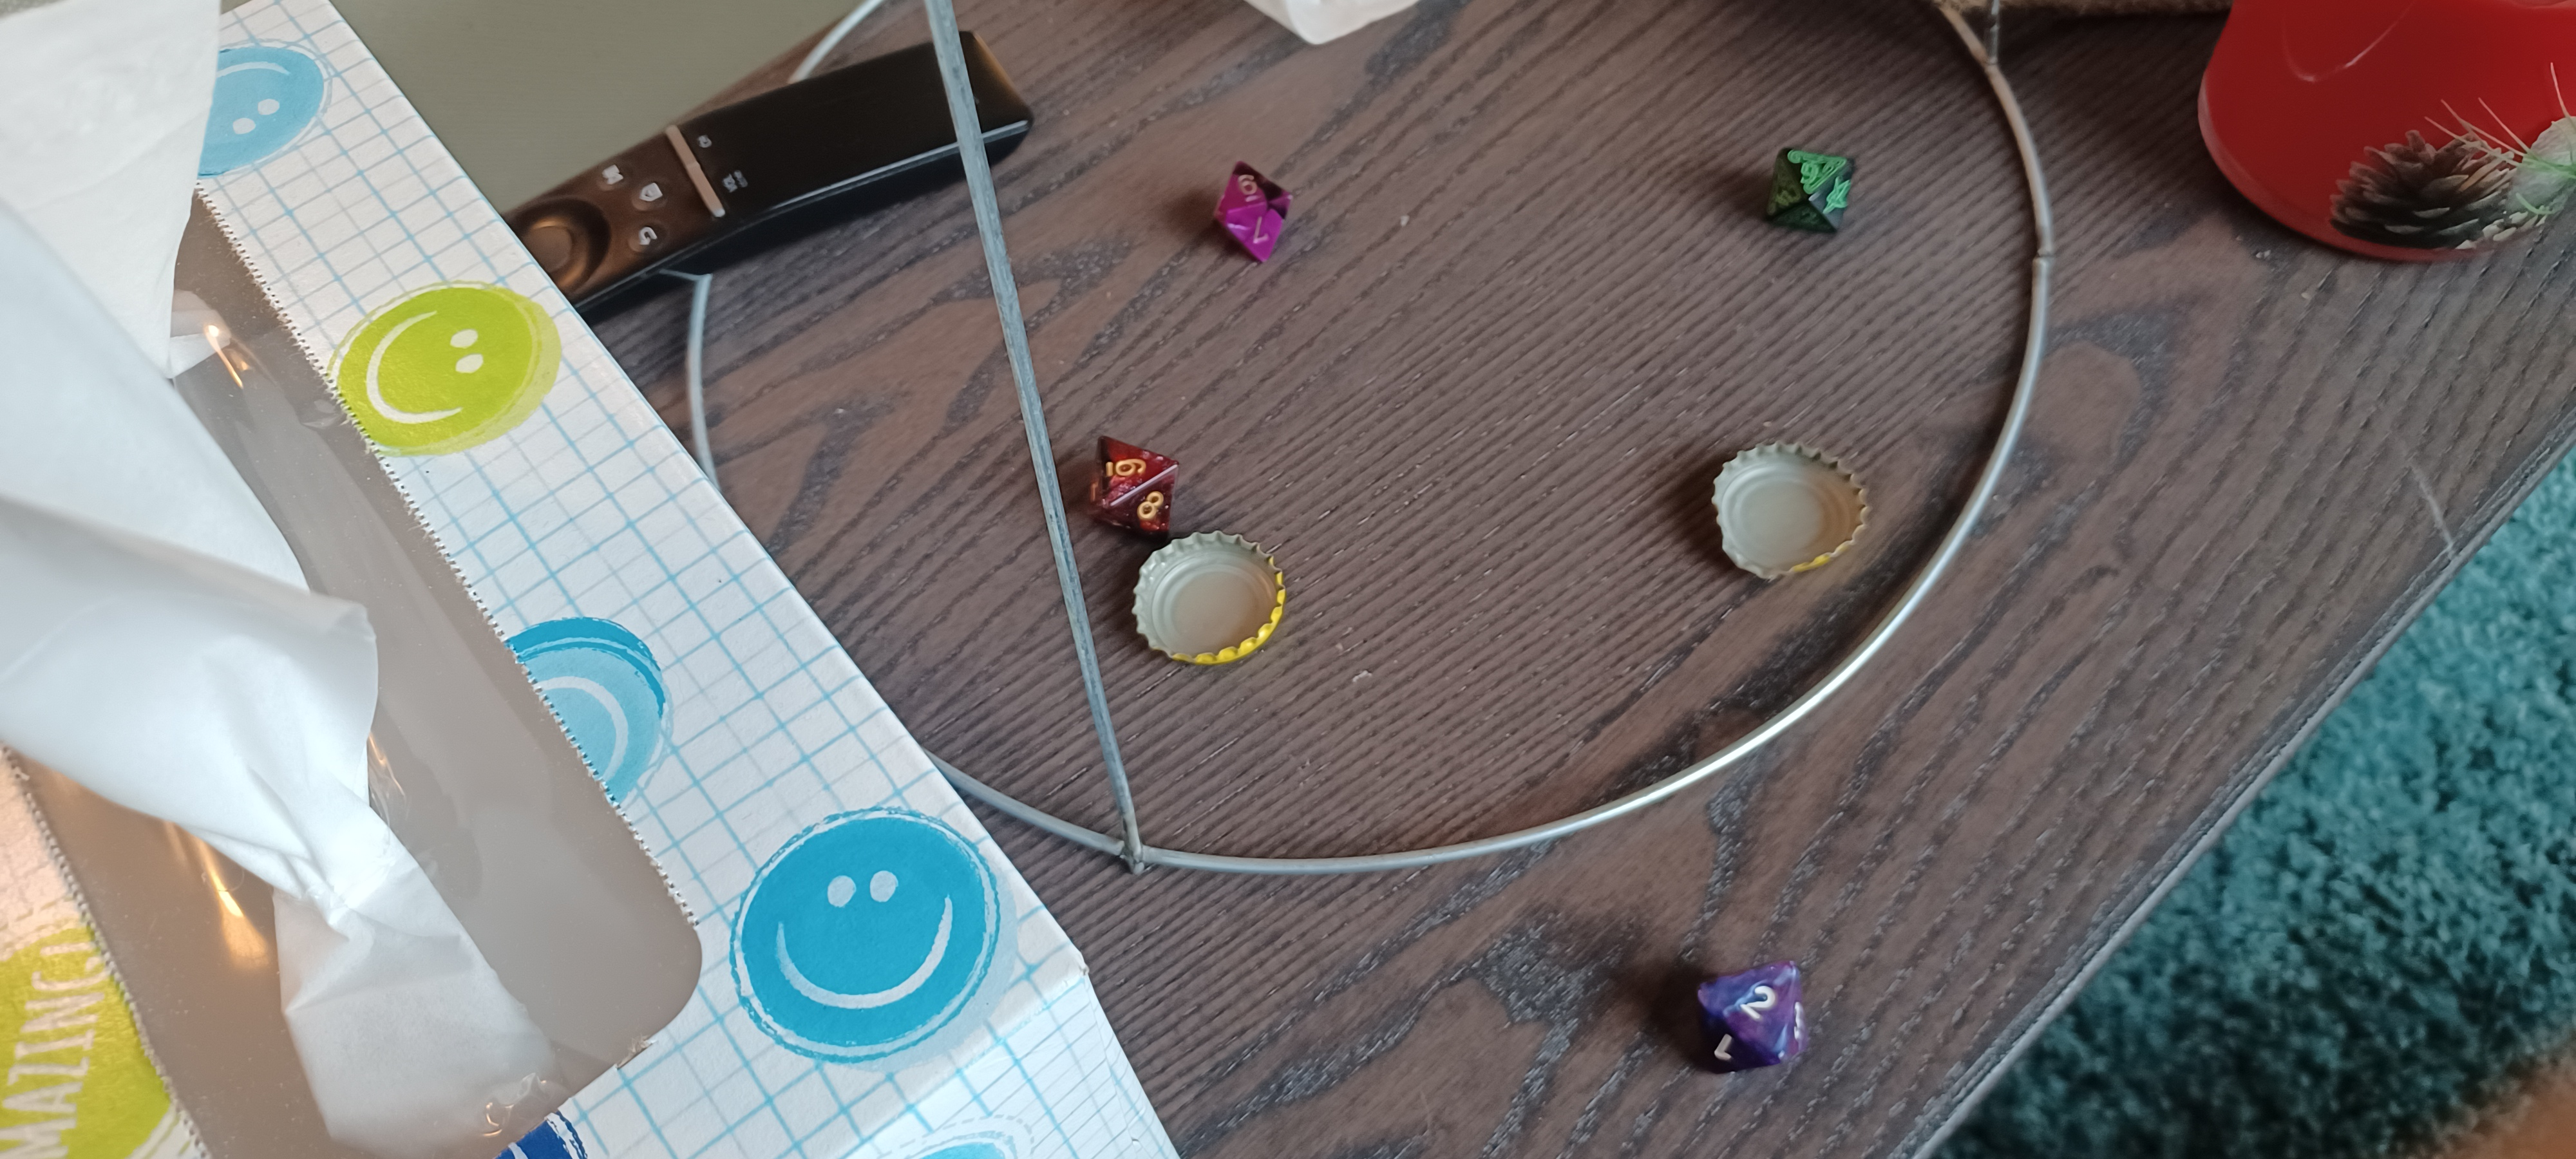six: (1045, 414, 1219, 571), (1740, 125, 1888, 258), (1199, 148, 1314, 274)
two: (1671, 928, 1827, 1105)
